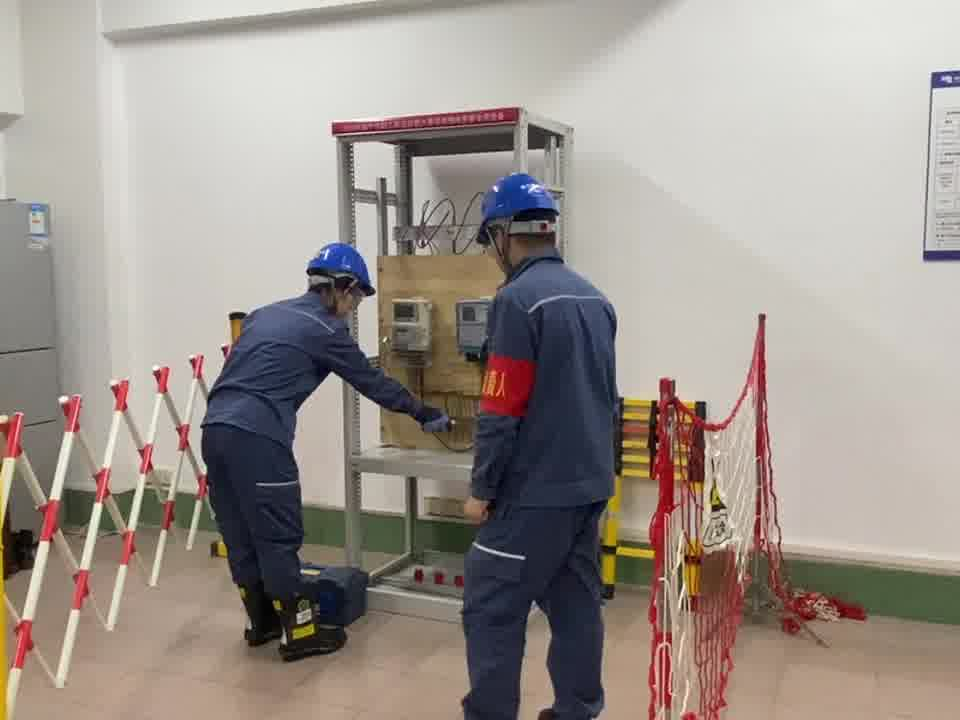badge: (478, 355, 536, 419)
downsuit: (457, 518, 612, 720), (199, 428, 314, 612)
glove: (408, 399, 455, 438)
halt: (478, 172, 563, 260), (305, 242, 375, 320)
hand: (459, 493, 501, 521)
inear: (482, 220, 521, 272), (321, 274, 360, 316)
person: (441, 168, 630, 719), (199, 241, 404, 651)
shoe: (228, 579, 351, 657)
upsuit: (469, 255, 627, 506), (206, 293, 397, 424)
